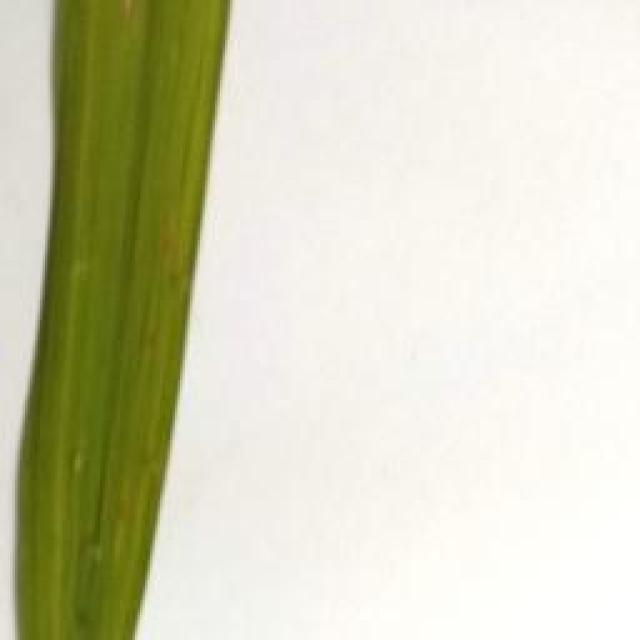Brown_Spot: (152, 219, 182, 258)
Rice_Blast: (108, 0, 145, 33), (68, 442, 94, 479)
